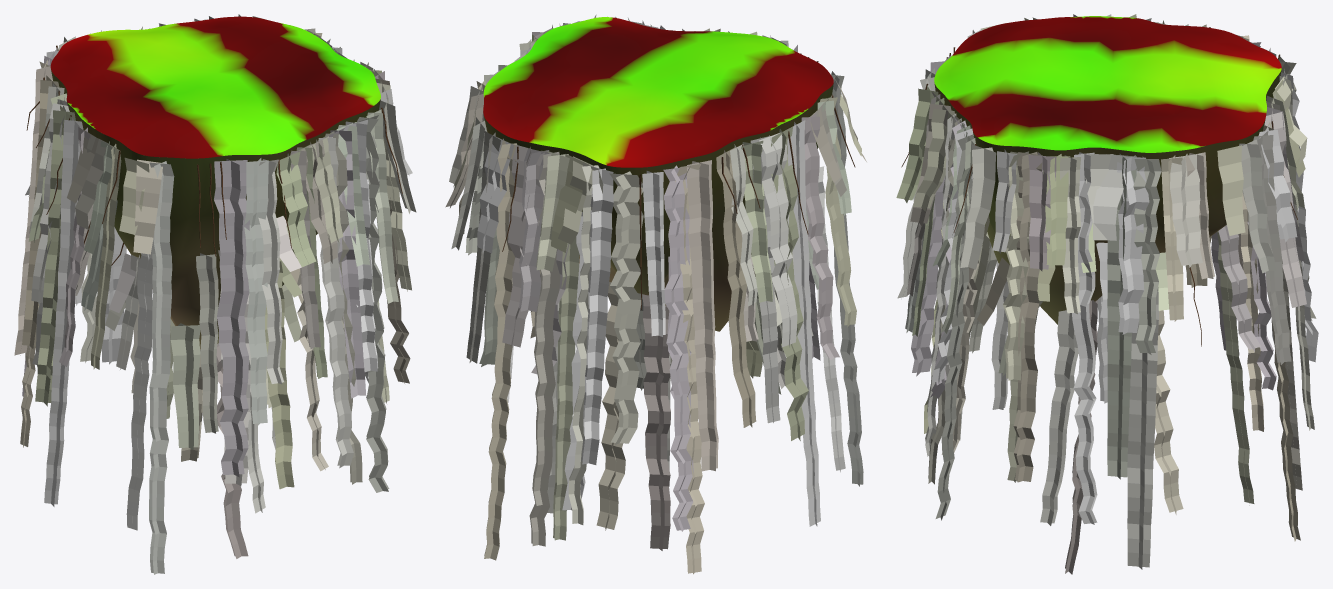
The model's file is SM_H06_Floater06.fbx.
The picture shows the model from 3 angles, left to right: view 1: azimuth 30°, elevation 25°; view 2: azimuth 150°, elevation 25°; view 3: azimuth 270°, elevation 25°; orthographic projection. The views are drawn at different scales.
Visible parts, largest first — view 1: SM_H06_Floater06_Ivy, SM_H06_Floater06; view 2: SM_H06_Floater06_Ivy, SM_H06_Floater06; view 3: SM_H06_Floater06_Ivy, SM_H06_Floater06.
Part boxes in pixels (x1=…): SM_H06_Floater06_Ivy: x1=14, y1=14, x2=416, y2=574; SM_H06_Floater06: x1=50, y1=16, x2=380, y2=349; SM_H06_Floater06_Ivy: x1=445, y1=14, x2=866, y2=574; SM_H06_Floater06: x1=483, y1=17, x2=833, y2=331; SM_H06_Floater06_Ivy: x1=896, y1=14, x2=1318, y2=574; SM_H06_Floater06: x1=934, y1=16, x2=1281, y2=324.
Bounding box in the file's own units: 24.58 × 33.88 × 26.36.
